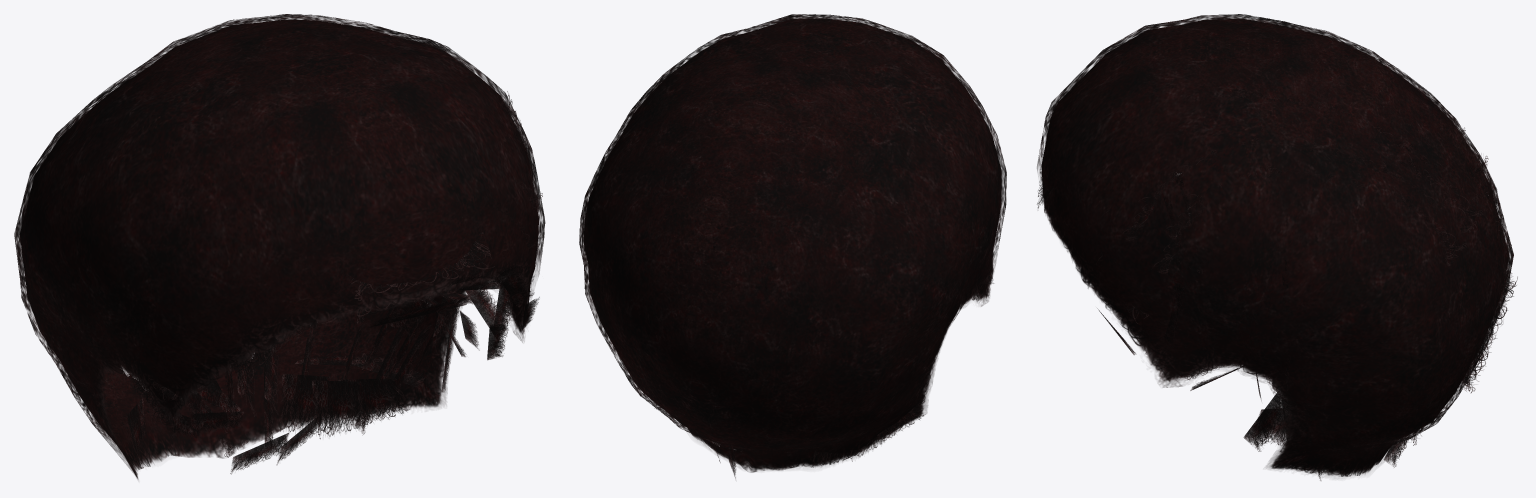
Rendered from afro-asian.glb.
The picture shows the model from 3 angles, left to right: view 1: azimuth 30°, elevation 25°; view 2: azimuth 150°, elevation 25°; view 3: azimuth 270°, elevation 25°; orthographic projection. The views are drawn at different scales.
Parts seen in each view (by area): view 1: hair_afro; view 2: hair_afro; view 3: hair_afro.
Part boxes in pixels (<box>): hair_afro: <box>14,14,545,479</box>; hair_afro: <box>579,14,1006,478</box>; hair_afro: <box>1037,14,1517,480</box>.
Size of the model in its own units: 0.197 by 0.2077 by 0.2161.
1 material, 1 textured.
